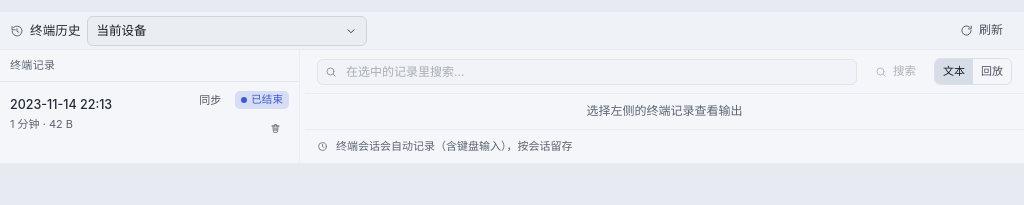
Test: TranscriptHistoryPanel › reads output and strips ansi escapes for display
Click the row "2023-11-14 22:13 1 分钟 · 42 B 同步 已结束": (61, 104) [0,82,299,146]
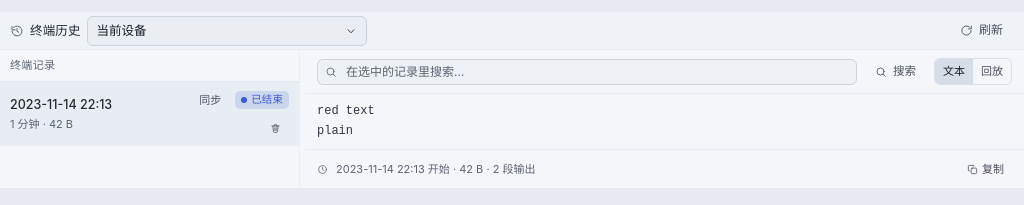
Check: the element showing "red text plain" is shown, box [317,104,375,138]
